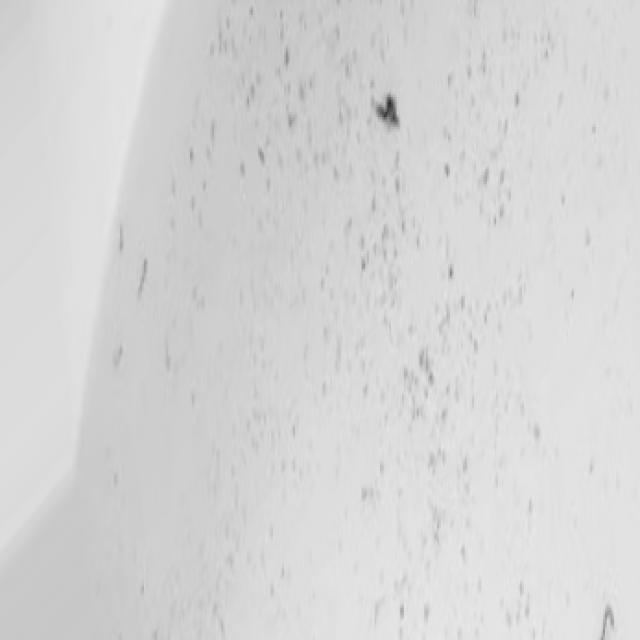larvas: (376, 90, 397, 124), (598, 599, 615, 640), (136, 256, 152, 291), (112, 346, 128, 366), (118, 219, 125, 249)
